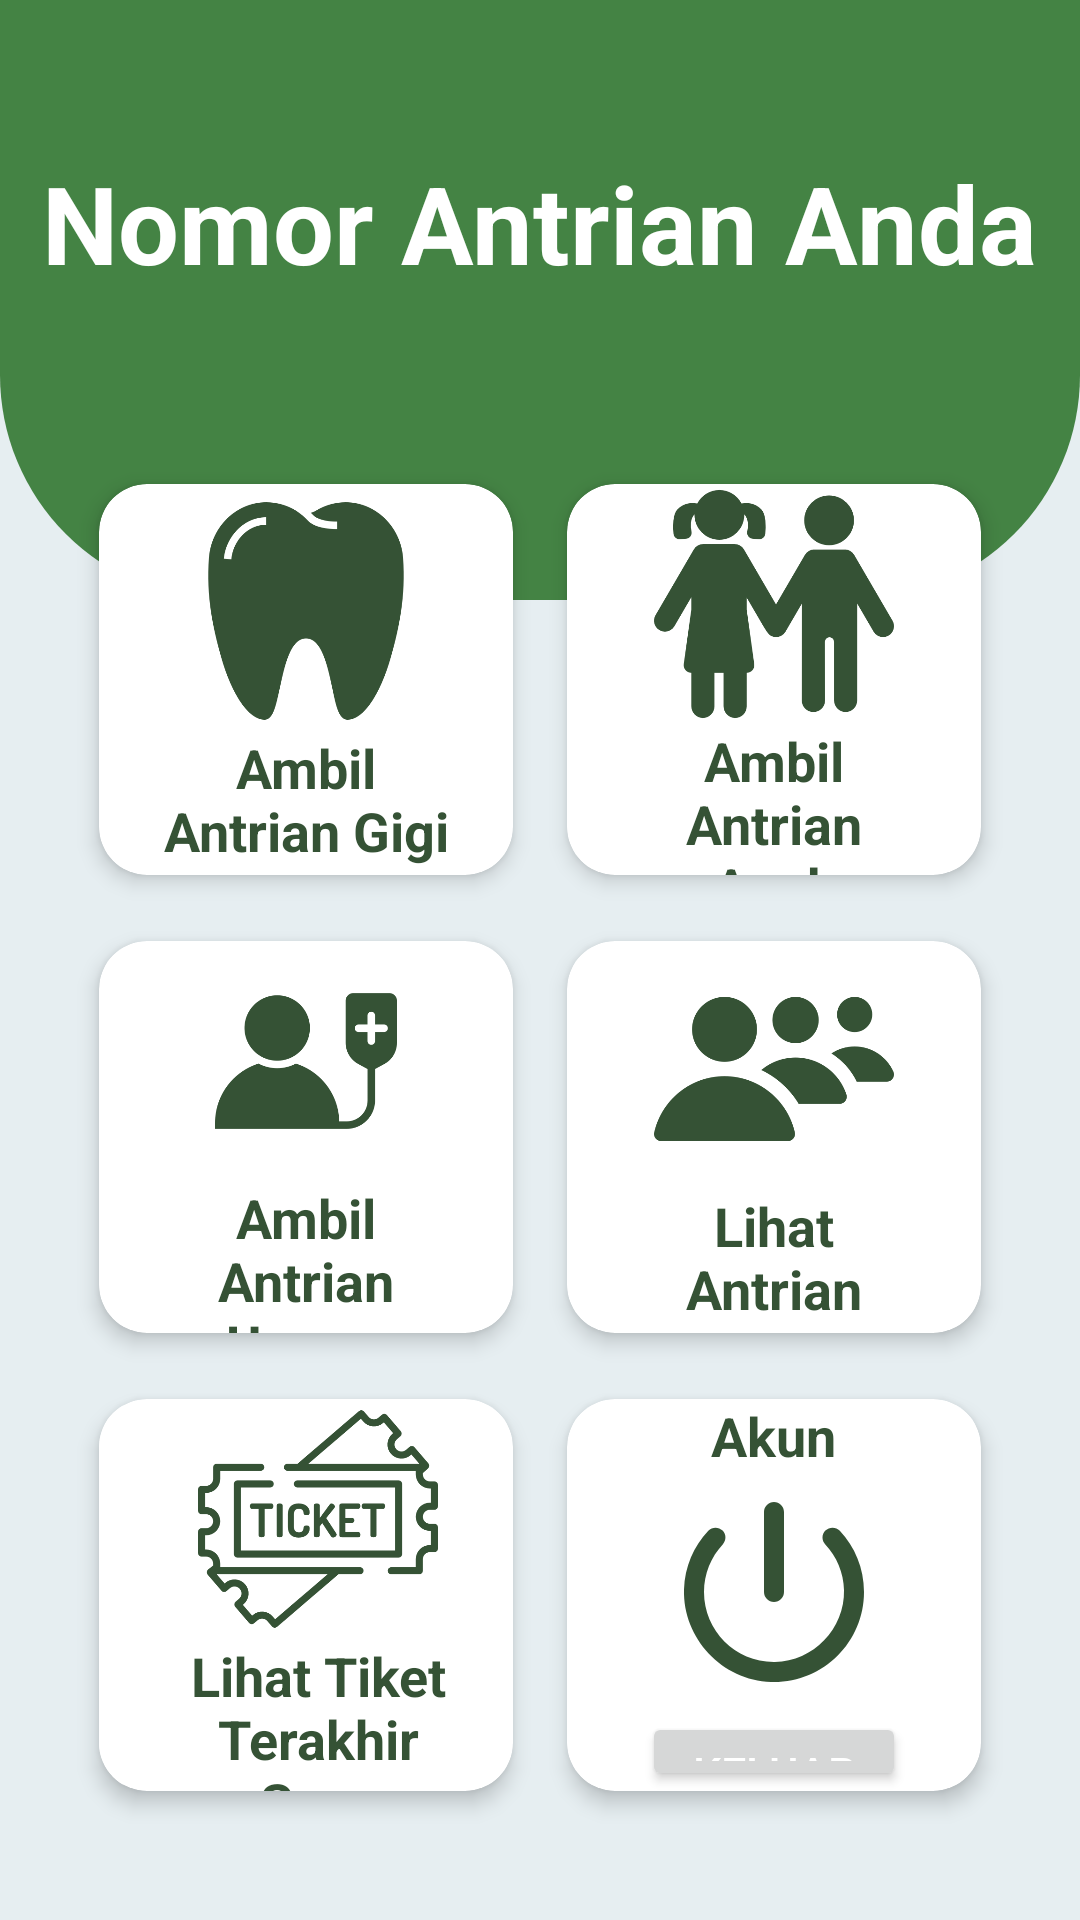

Where to tap for icons on this 1080*1920 app screen, as point (x, y):
child queue: point (774, 604)
dental queue: point (306, 611)
general queue: point (306, 1061)
power settings: point (774, 1592)
show queue: point (774, 1069)
